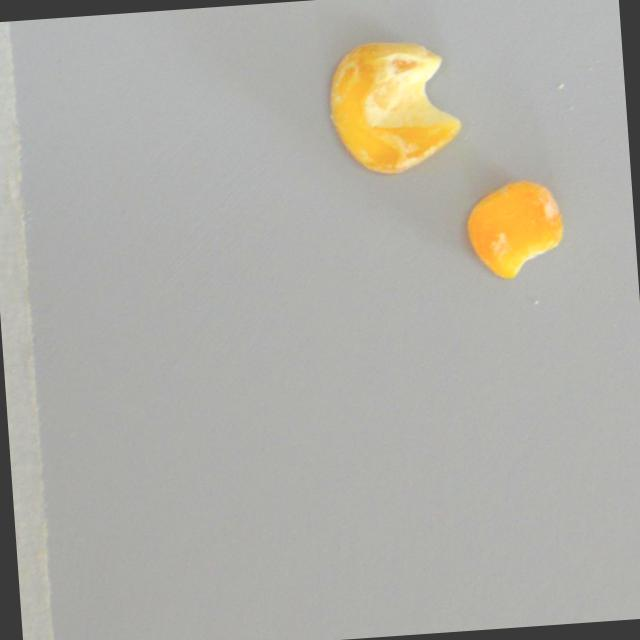dañado: (318, 33, 472, 185), (458, 172, 572, 287)
